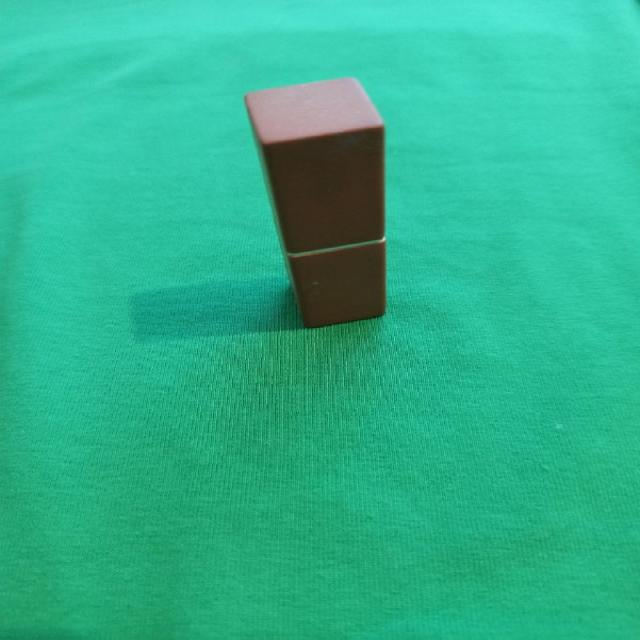lipstick: (242, 76, 386, 328)
